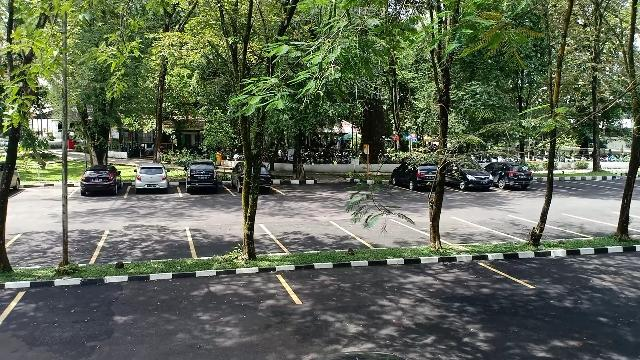empty: (12, 274, 284, 328), (284, 262, 508, 306), (6, 228, 98, 268), (102, 228, 190, 264), (190, 219, 272, 257), (272, 221, 352, 253), (420, 216, 496, 246), (352, 218, 424, 248), (494, 216, 558, 242), (16, 175, 74, 200), (556, 213, 616, 237)
occupied: (128, 169, 180, 198), (75, 173, 128, 199), (181, 167, 225, 197)
